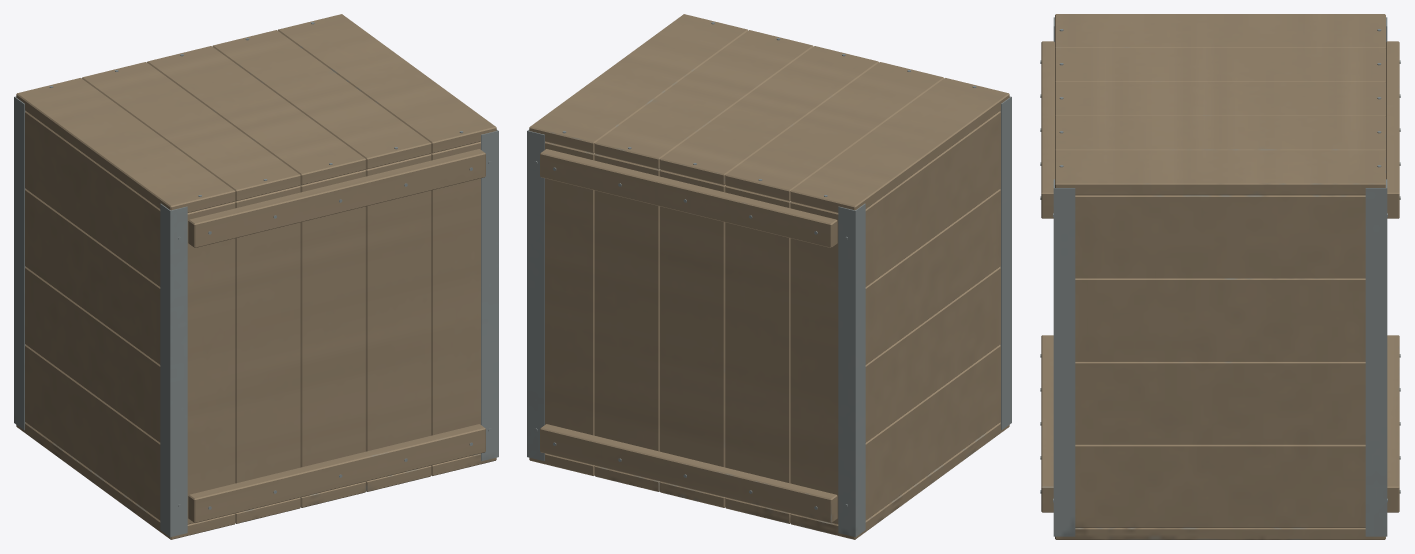
File: wooden_crate_medium.glb
3 views of the same model, side by side, from view 1: azimuth 30°, elevation 25°; view 2: azimuth 150°, elevation 25°; view 3: azimuth 270°, elevation 25° (orthographic). The views are drawn at different scales.
Parts seen in each view (by area): view 1: WoodenCrateMedium; view 2: WoodenCrateMedium; view 3: WoodenCrateMedium.
Part boxes in pixels (x1=…): WoodenCrateMedium: x1=14, y1=14, x2=498, y2=539; WoodenCrateMedium: x1=527, y1=14, x2=1011, y2=539; WoodenCrateMedium: x1=1040, y1=14, x2=1400, y2=539.
Size of what is drawn, in the model's own units: 0.7 by 0.6816 by 0.6226.
Materials: 1 (1 with a texture image).
